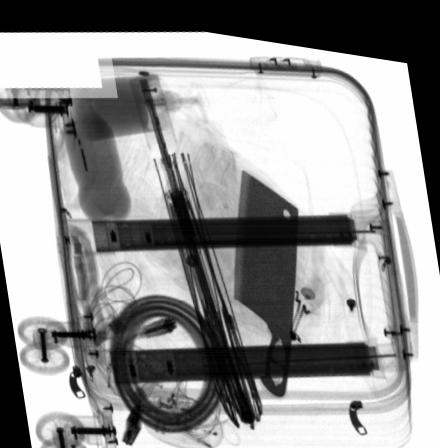Knife: (234, 161, 298, 389)
